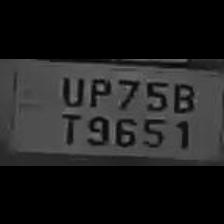1: (168, 114, 194, 148)
5: (138, 113, 168, 147), (140, 77, 168, 111)
6: (111, 113, 137, 145)
7: (112, 74, 140, 108)
9: (83, 110, 109, 144)
B: (168, 76, 196, 114)
P: (84, 72, 112, 108)
T: (54, 108, 82, 144)
U: (54, 72, 86, 104)
